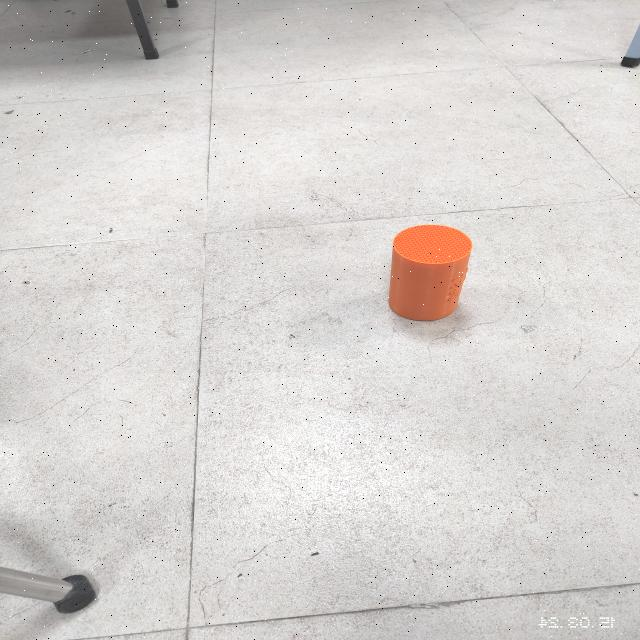Cylinder: (388, 224, 473, 322)
